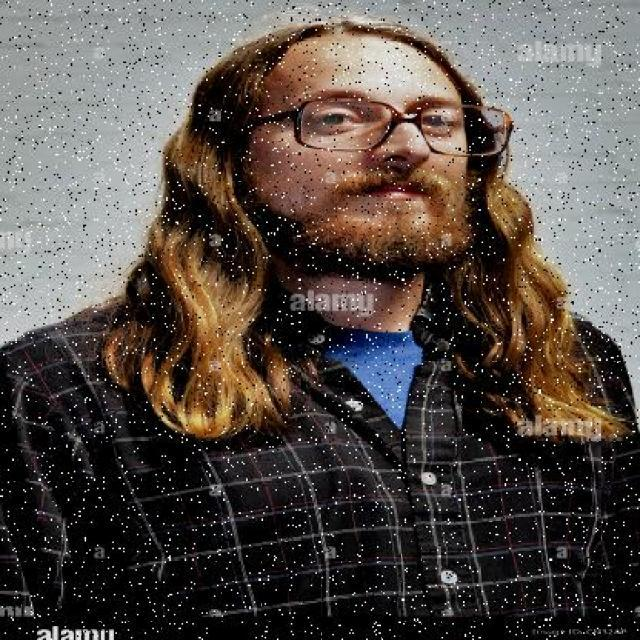mask: (283, 94, 523, 160)
